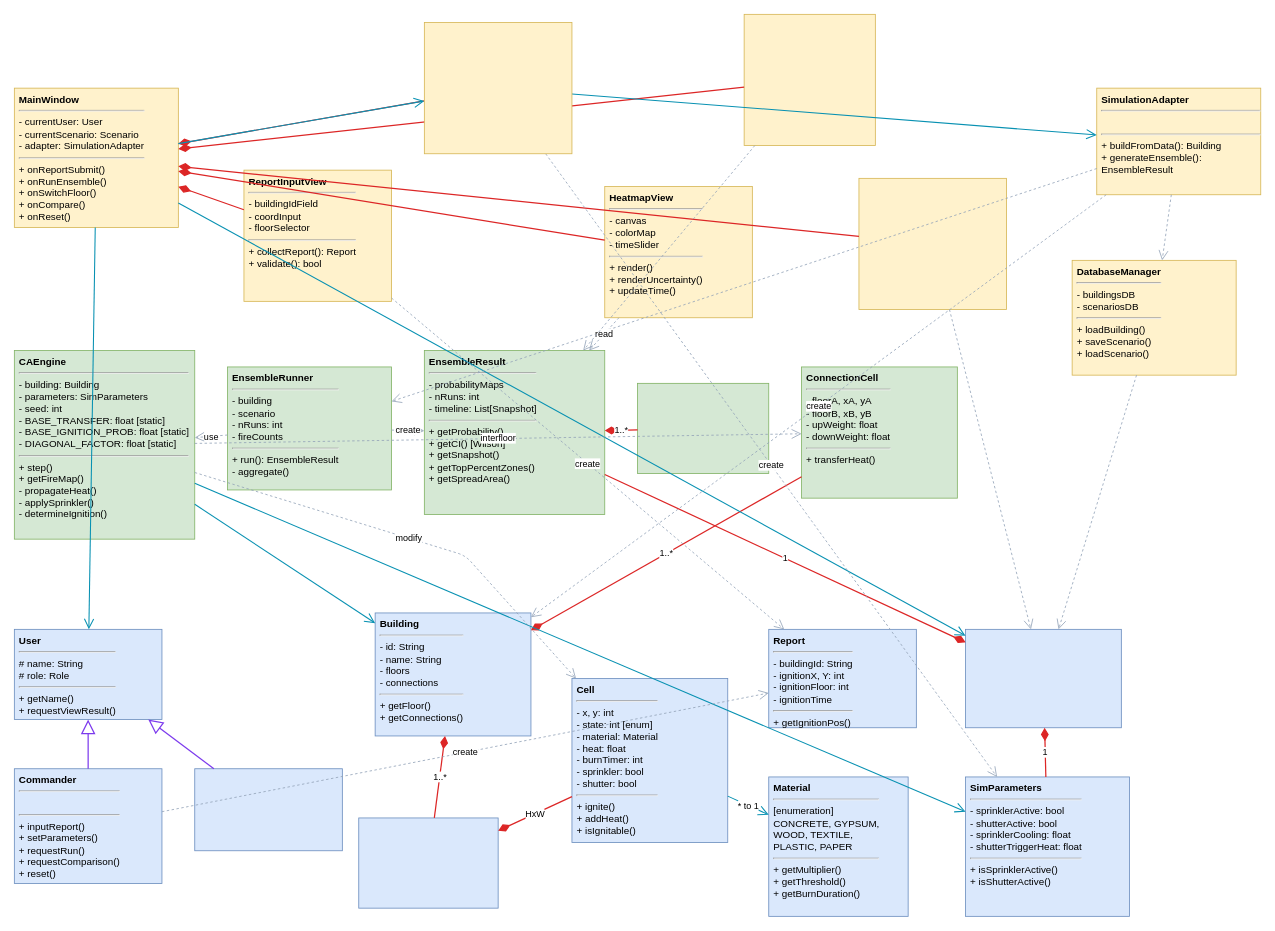
The diagram is 1275 pixels wide and 931 high, and some of its shapes have lost their labels. Here are the shapes that lost their labels. From the top down, the centre of each, then its label:
[498,88]: ParameterView - sprinklerChk - shutterChk + collectParameters(): SimParameters
[809,80]: SectionView - canvas + renderSection()
[932,244]: ComparisonView - leftCanvas - rightCanvas + renderComparison() + renderDelta()
[703,428]: Snapshot - tick: int - states - heats + getState()
[1043,678]: Scenario - id: String - parameters - result + getResult() + computeDelta()
[268,809]: FieldOperator + switchFloor() + adjustTime()
[428,862]: Floor - floorId: String - cells [numpy] + getCell() + getGridSize()
